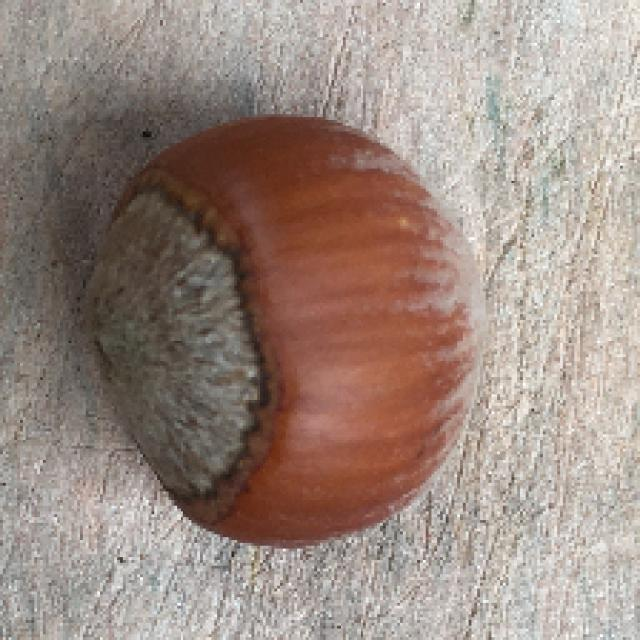qualityHazelnut: (79, 112, 488, 551)
